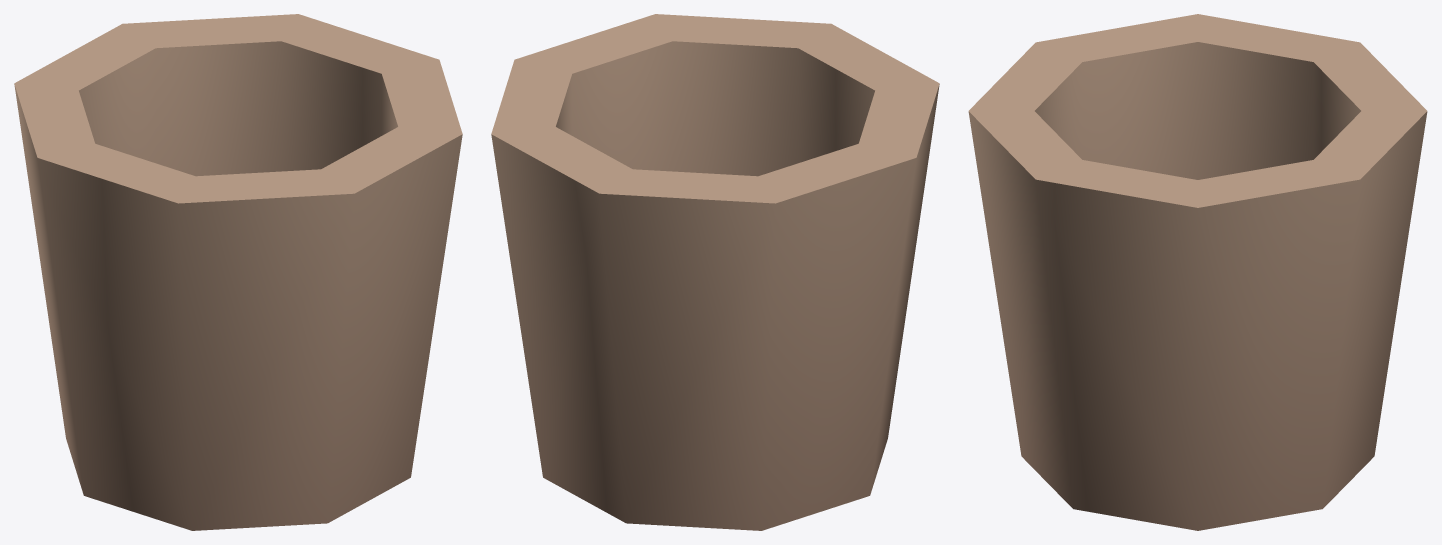
File: pot-small_0.glb
The picture shows the model from 3 angles, left to right: view 1: azimuth 30°, elevation 25°; view 2: azimuth 150°, elevation 25°; view 3: azimuth 270°, elevation 25°; orthographic projection.
Visible parts, largest first — view 1: pot-small; view 2: pot-small; view 3: pot-small.
Part boxes in pixels (x1,y1,x2,y2): pot-small: (14,14,462,530); pot-small: (491,14,939,530); pot-small: (968,14,1427,530).
Size of the model in its own units: 0.1595 by 0.1324 by 0.1595.
